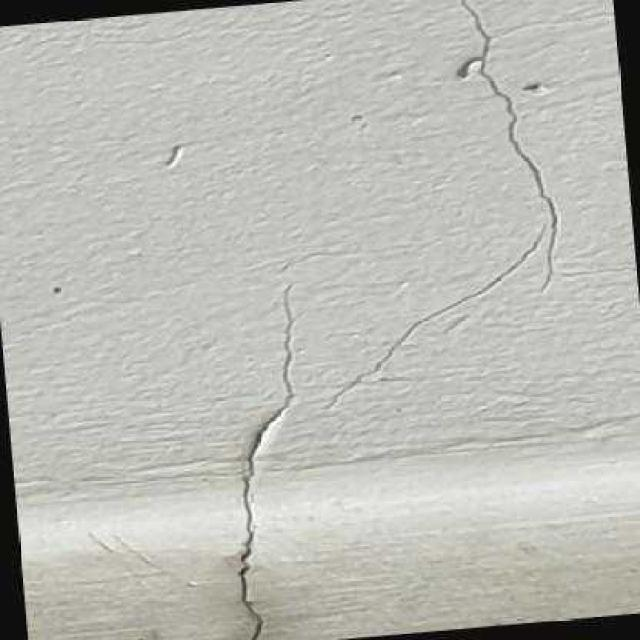D00: (331, 0, 561, 399), (229, 300, 300, 640)
